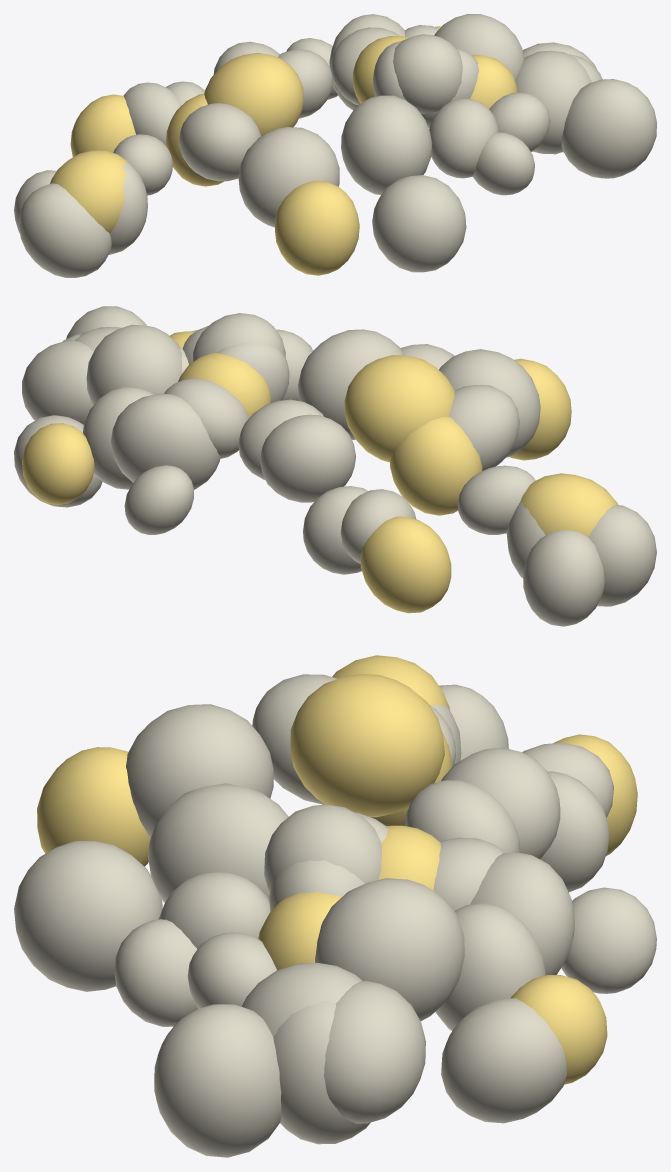
The model's file is popcorn.glb.
3 views of the same model, one above another, from view 1: azimuth 30°, elevation 25°; view 2: azimuth 150°, elevation 25°; view 3: azimuth 270°, elevation 25° (orthographic). The views are drawn at different scales.
Parts seen in each view (by area): view 1: pipoca; view 2: pipoca; view 3: pipoca.
Boxes of the visible parts, x1,y1,x2,y2 form: pipoca: (14, 14, 656, 277); pipoca: (14, 306, 656, 626); pipoca: (14, 655, 656, 1157).
Size of the model in its own units: 0.4211 by 0.1212 by 0.2659.
